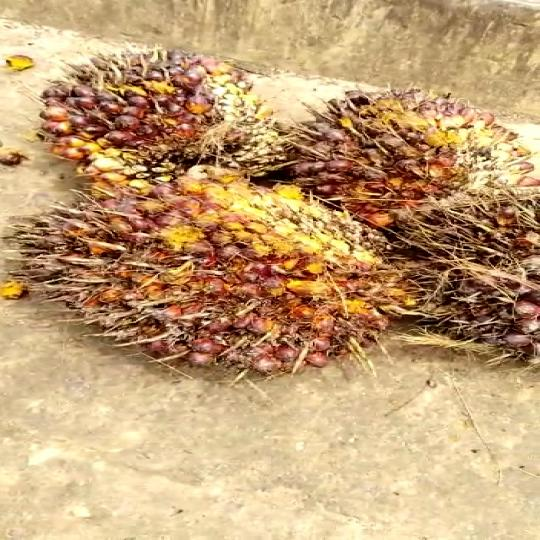masak: (3, 166, 415, 393), (26, 39, 257, 194), (284, 89, 540, 228)
